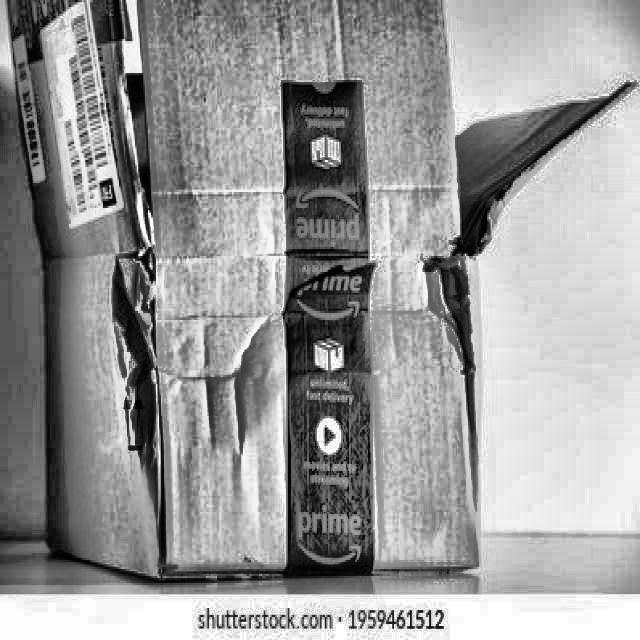box: (0, 0, 516, 575)
hole: (111, 254, 169, 472), (427, 245, 479, 378)
